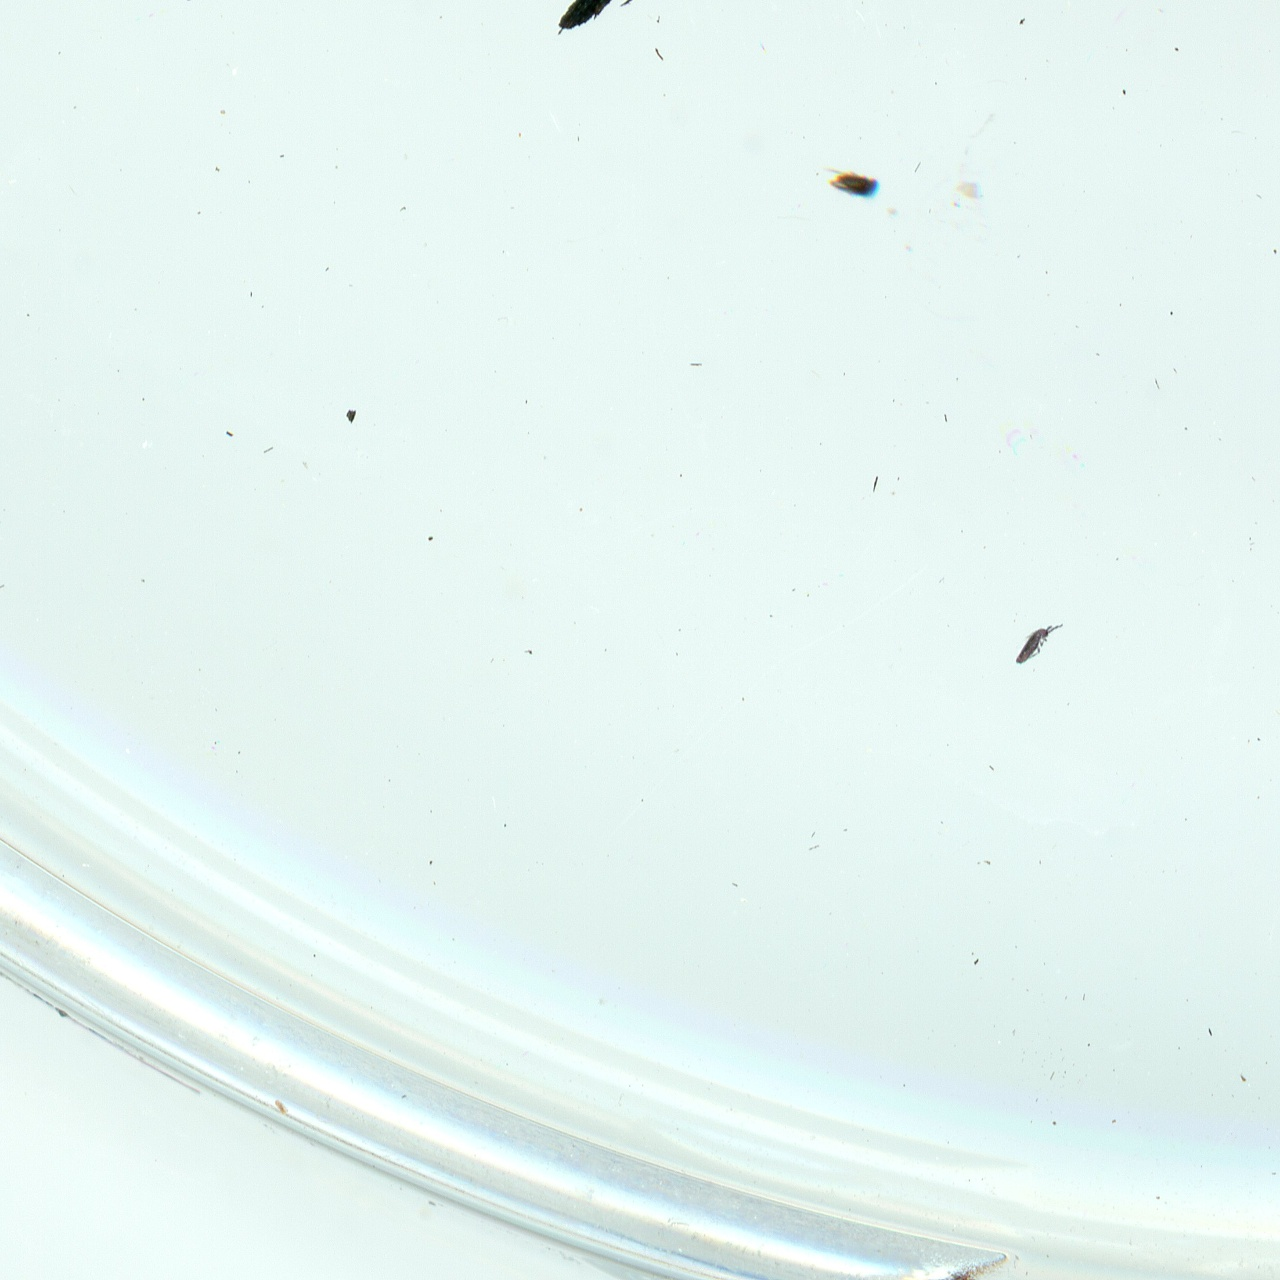arthropod: (1008, 620, 1071, 668)
